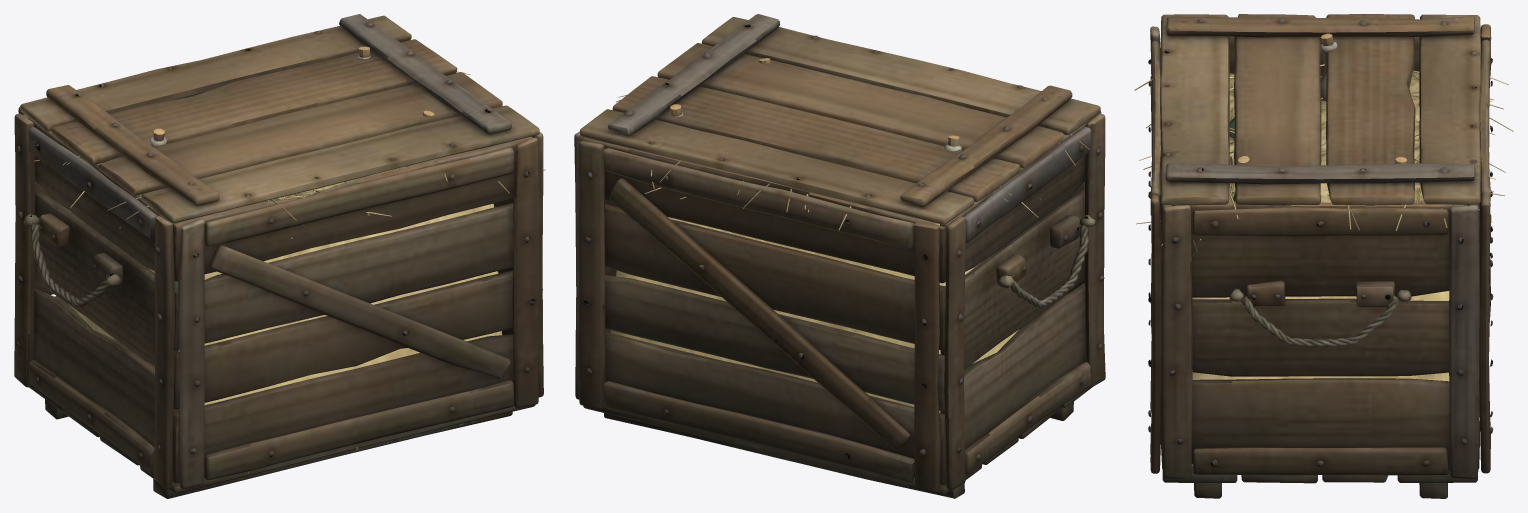
File: crate.glb
3 views of the same model, side by side, from view 1: azimuth 30°, elevation 25°; view 2: azimuth 150°, elevation 25°; view 3: azimuth 270°, elevation 25° (orthographic). The views are drawn at different scales.
Parts seen in each view (by area): view 1: crate, Lid, Contents; view 2: crate, Lid, Contents; view 3: crate, Lid, Contents.
Boxes of the visible parts, x1,y1,x2,y2 form: crate: (14, 94, 543, 498); Lid: (20, 14, 539, 223); Contents: (32, 46, 545, 409); crate: (574, 111, 1105, 498); Lid: (580, 14, 1100, 224); Contents: (610, 58, 1089, 412); crate: (1148, 24, 1493, 498); Lid: (1160, 14, 1481, 205); Contents: (1134, 33, 1513, 465).
Bounding box in the file's own units: 0.9476 × 0.6418 × 0.6901.
Materials: 1 (1 with a texture image).
